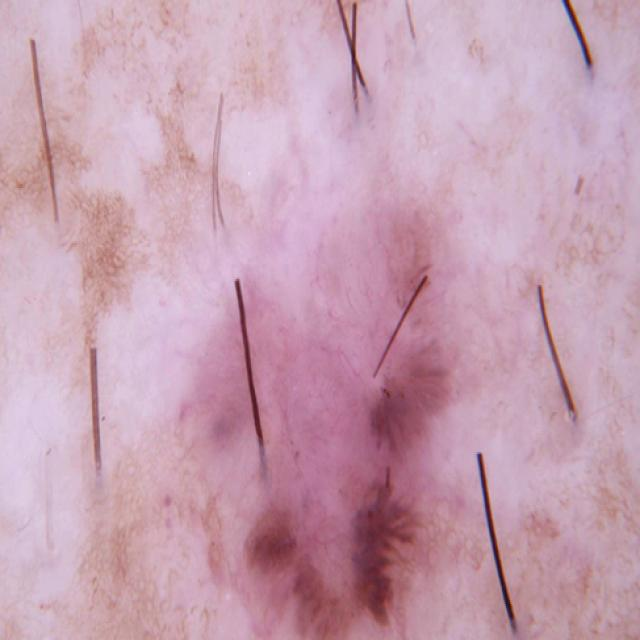Carcinoma: (216, 258, 497, 640)
